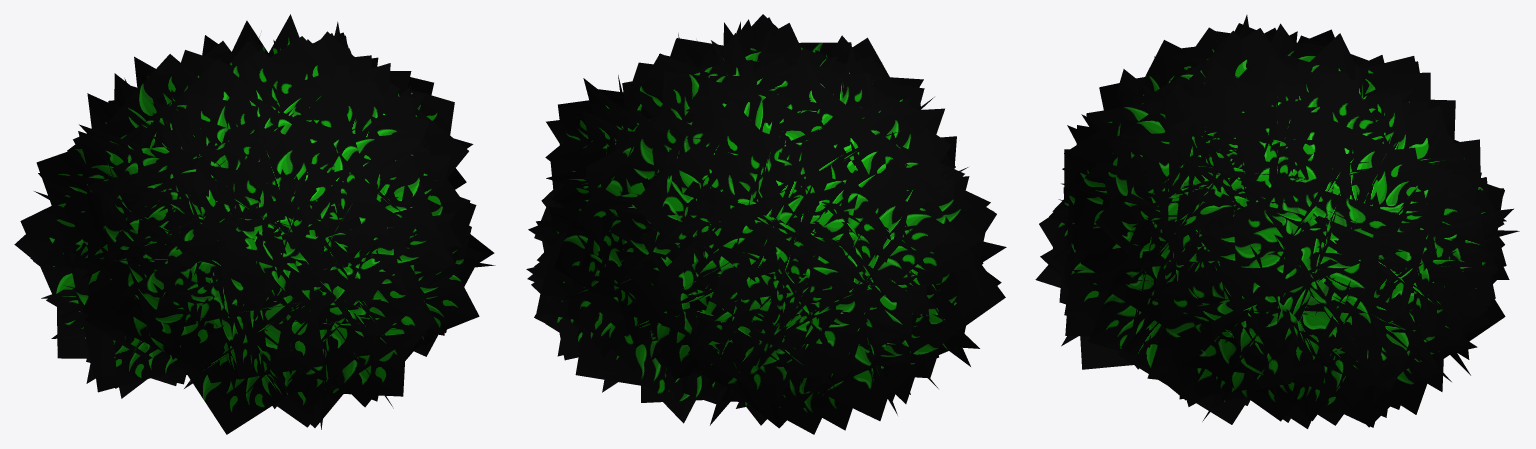
File: Bush.fbx
The picture shows the model from 3 angles, left to right: view 1: azimuth 30°, elevation 25°; view 2: azimuth 150°, elevation 25°; view 3: azimuth 270°, elevation 25°; orthographic projection. The views are drawn at different scales.
Visible parts, largest first — view 1: Bush; view 2: Bush; view 3: Bush.
Boxes of the visible parts, x1,y1,x2,y2 form: Bush: [14, 14, 495, 434]; Bush: [526, 14, 1006, 434]; Bush: [1035, 15, 1519, 428].
Bounding box in the file's own units: 495 × 481 × 373.
